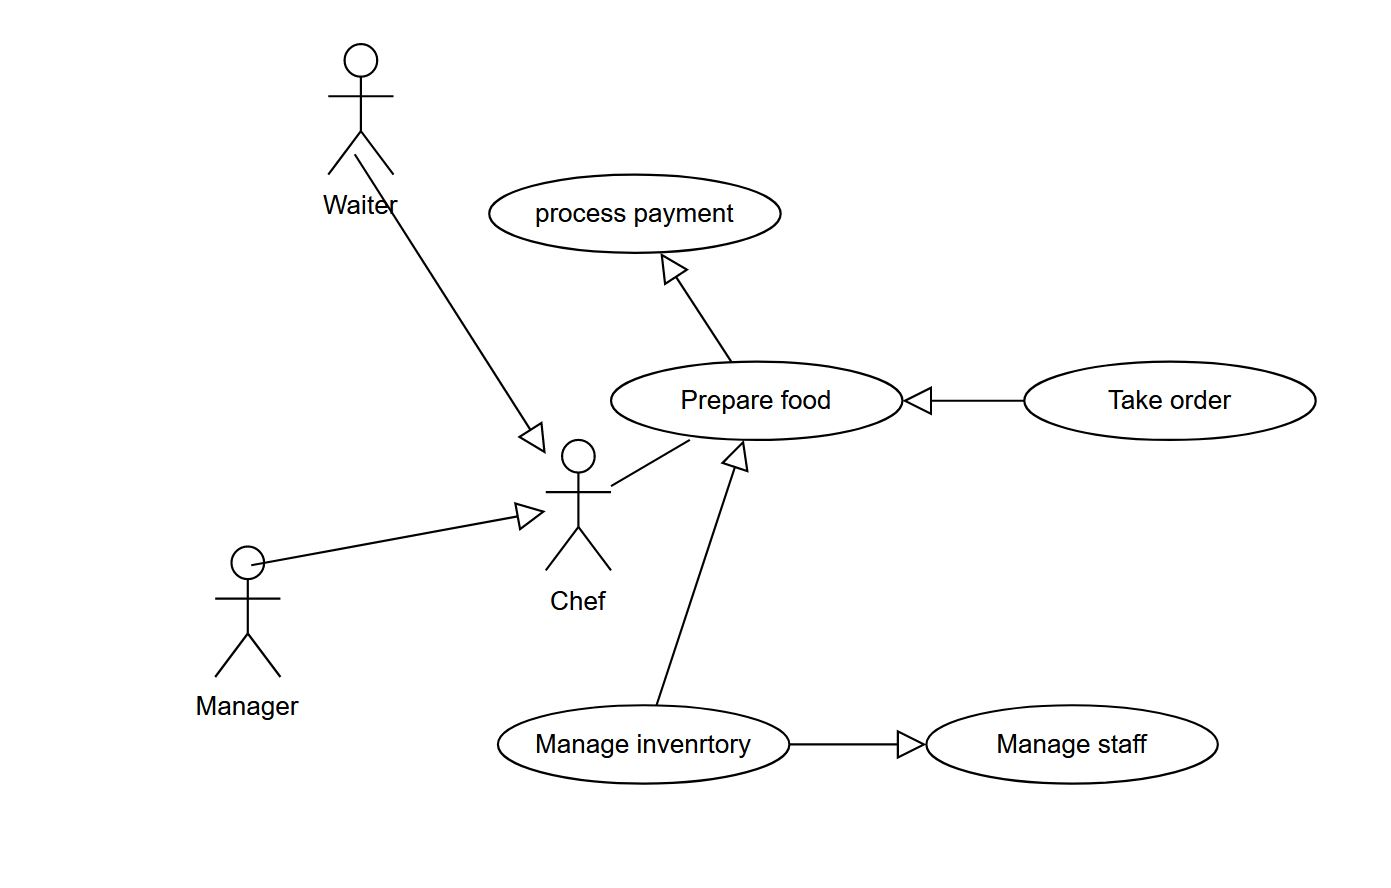actor: (211, 544, 282, 679), (543, 438, 611, 574), (324, 43, 393, 173)
association: (613, 436, 690, 488)
generalization: (355, 156, 543, 452), (653, 439, 748, 705), (255, 500, 544, 566), (658, 254, 730, 360), (789, 728, 925, 758), (899, 386, 1023, 414)
text: (532, 727, 753, 766), (533, 200, 740, 229), (1095, 380, 1232, 424), (987, 727, 1150, 763), (675, 383, 835, 418), (188, 692, 305, 723), (319, 188, 399, 219), (545, 585, 609, 616)
use_case: (1022, 359, 1317, 442), (927, 704, 1222, 784), (496, 704, 791, 783), (487, 173, 782, 251), (612, 362, 901, 440)
